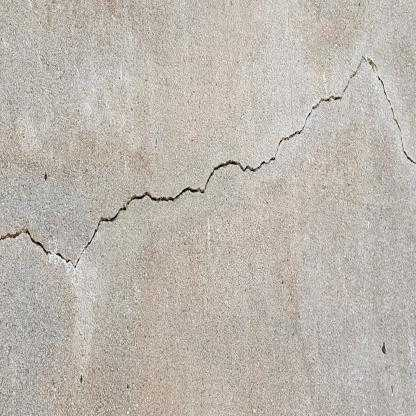crack: (0, 56, 416, 267)
